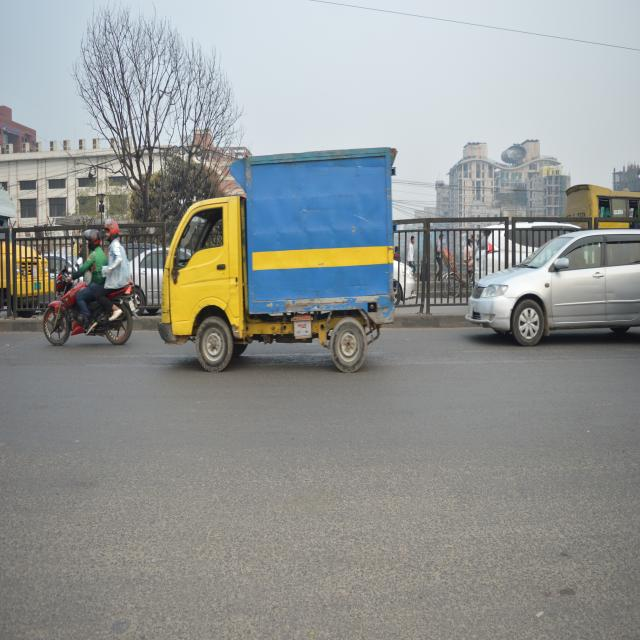car: (466, 230, 640, 350), (130, 241, 174, 312)
motorbike: (41, 266, 139, 362)
pickup-van: (161, 143, 402, 368)
truck: (0, 186, 52, 314)
